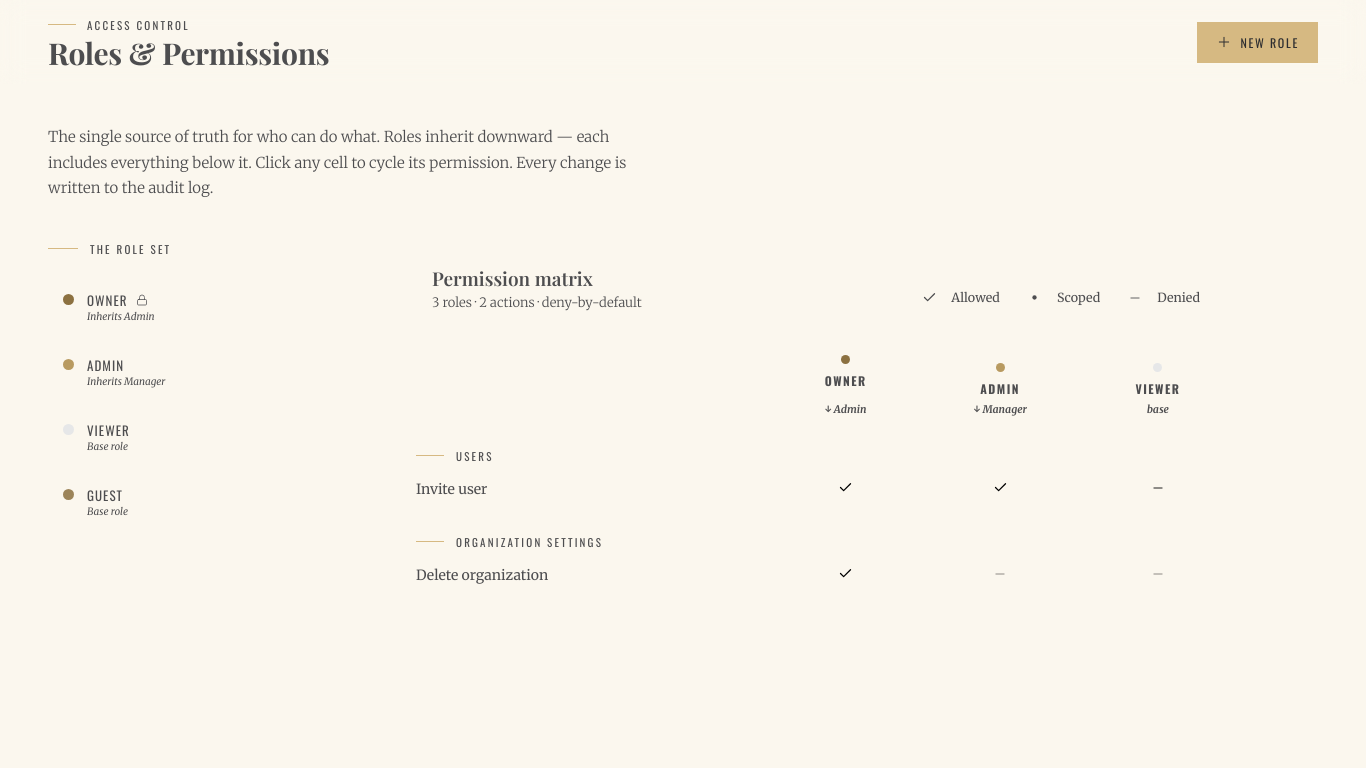
Test case: RolesPage › cycles an editable cell via the API and reflects the new state
The image size is (1366, 768).
Click the button named "Invite user for Admin: Allowed": point(1000, 488) x1=916 y1=474 x2=1084 y2=502
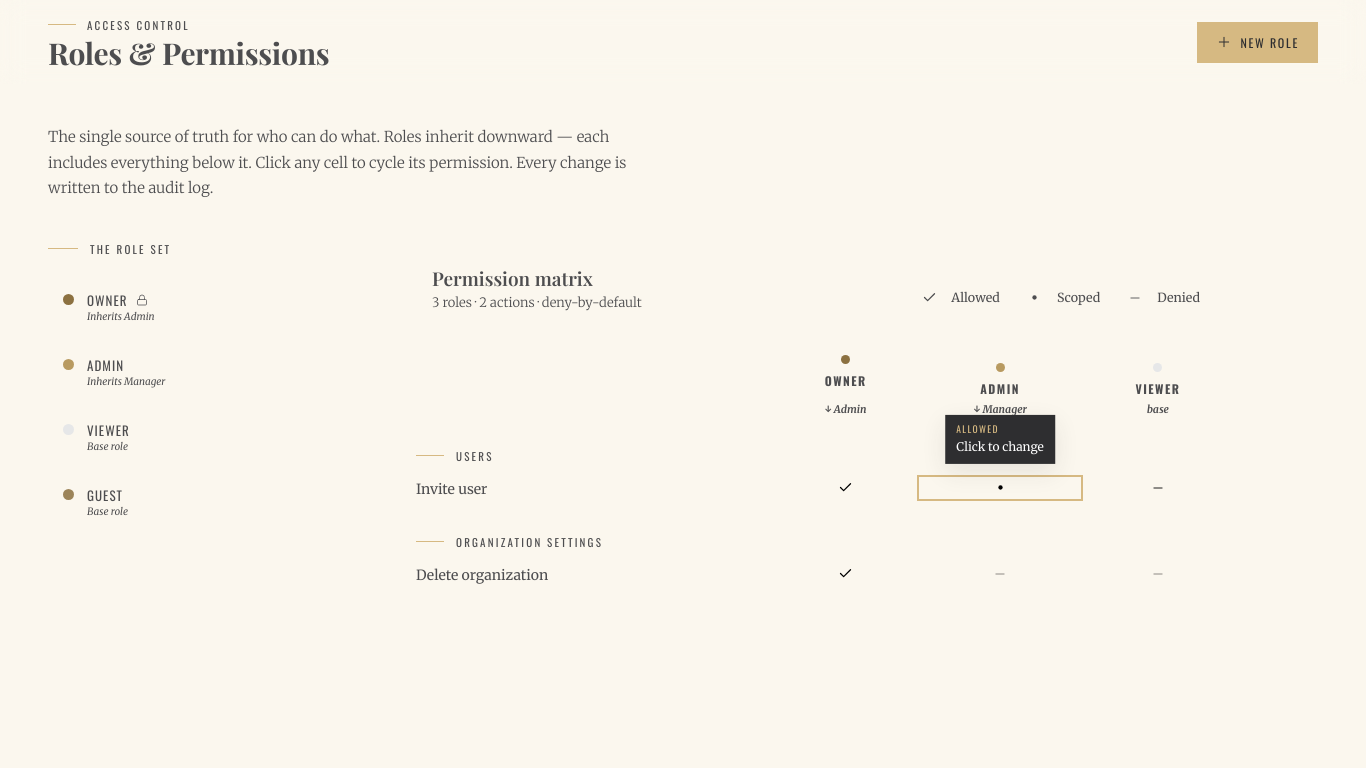
Expected: the button named "Invite user for Admin: Scoped" is shown, x1=916 y1=474 x2=1084 y2=502
